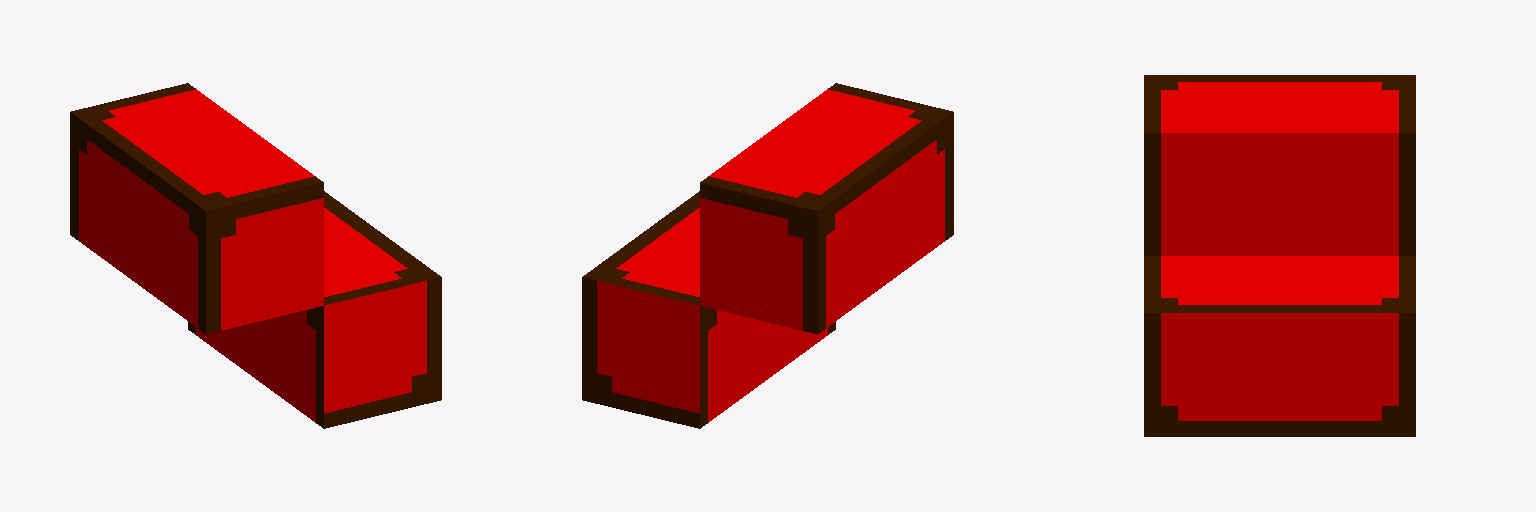
3 views of the same model, side by side, from view 1: azimuth 30°, elevation 25°; view 2: azimuth 150°, elevation 25°; view 3: azimuth 270°, elevation 25° (orthographic).
Visible parts, largest first — view 1: 9_red; view 2: 9_red; view 3: 9_red.
Boxes of the visible parts, box(x1,y1,x2,y2) form: 9_red: box(70, 83, 441, 428); 9_red: box(582, 83, 953, 428); 9_red: box(1144, 75, 1415, 436).
Size of the model in its own units: 1 by 1 by 1.
1 materials, 1 textured.